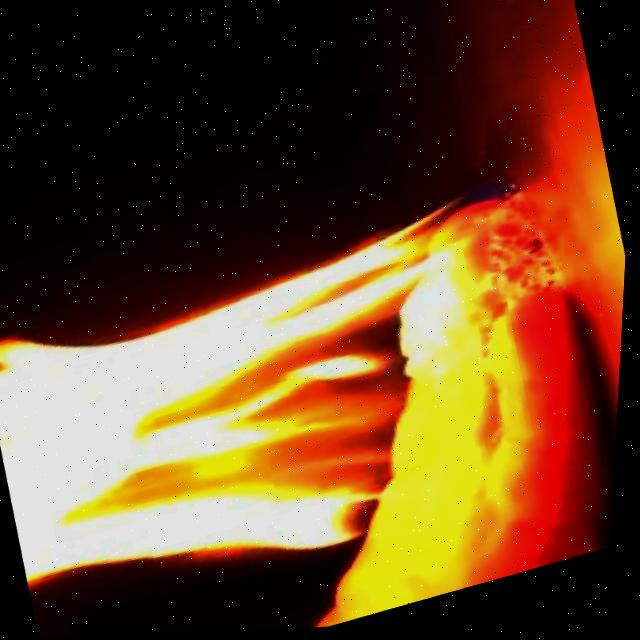Fire: (0, 175, 591, 639)
